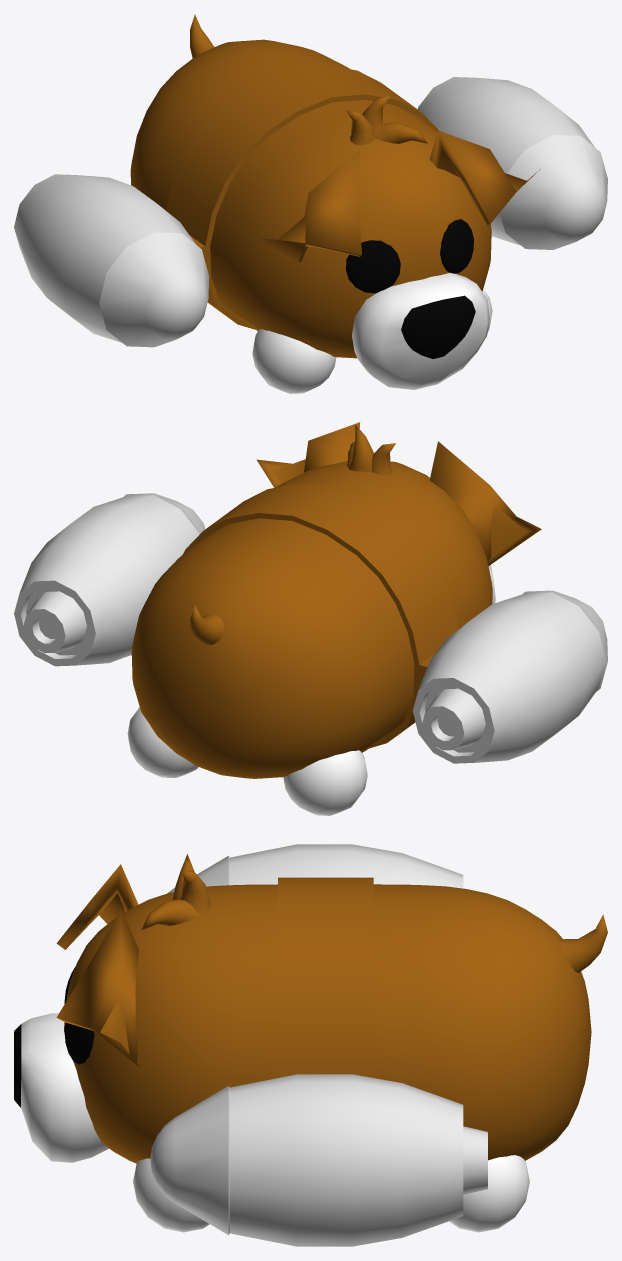
Rendered from LaserDog_01.FBX.
The picture shows the model from 3 angles, top to bottom: view 1: azimuth 30°, elevation 25°; view 2: azimuth 150°, elevation 25°; view 3: azimuth 270°, elevation 25°; orthographic projection. The views are drawn at different scales.
Visible parts, largest first — view 1: Body, Rockets Bodies, Rockets_Head&Tail, Rockets Belt, Muzzle, Ear_R, Ear_L, Paw_FrontR, Nose, Eye_R, Eye_L, Cylinder004 (+3 smaller); view 2: Body, Rockets Bodies, Rockets Belt, Rockets_Head&Tail, Ear_R, Paw_BackR, Ear_L, Paw_BackL, Cylinder006, Cylinder005, Cylinder003; view 3: Body, Rockets Bodies, Rockets Belt, Rockets_Head&Tail, Muzzle, Ear_L, Paw_BackL, Paw_FrontL, Ear_R, Cylinder006, Cylinder004, Eye_L (+2 smaller).
Boxes of the visible parts, x1,y1,x2,y2 form: Body: [130, 39, 491, 358]; Rockets Bodies: [14, 77, 594, 342]; Rockets_Head&Tail: [99, 135, 607, 347]; Rockets Belt: [166, 64, 438, 329]; Muzzle: [352, 273, 489, 389]; Ear_R: [257, 149, 361, 262]; Ear_L: [429, 130, 540, 225]; Paw_FrontR: [252, 329, 336, 393]; Nose: [401, 295, 475, 358]; Eye_R: [346, 240, 400, 293]; Eye_L: [440, 219, 473, 273]; Cylinder004: [374, 122, 427, 143]; Body: [131, 461, 492, 778]; Rockets Bodies: [20, 495, 605, 762]; Rockets Belt: [183, 483, 458, 748]; Rockets_Head&Tail: [14, 493, 607, 763]; Ear_R: [429, 441, 541, 565]; Paw_BackR: [283, 750, 367, 815]; Ear_L: [257, 422, 360, 487]; Paw_BackL: [127, 707, 198, 777]; Cylinder006: [190, 605, 223, 645]; Cylinder005: [348, 425, 373, 472]; Cylinder003: [371, 443, 395, 475]; Body: [64, 884, 591, 1163]; Rockets Bodies: [229, 844, 463, 1246]; Rockets Belt: [278, 877, 373, 1077]; Rockets_Head&Tail: [150, 856, 487, 1234]; Muzzle: [21, 1013, 108, 1162]; Ear_L: [56, 909, 139, 1066]; Paw_BackL: [449, 1155, 529, 1232]; Paw_FrontL: [133, 1158, 209, 1232]; Ear_R: [56, 864, 138, 949]; Cylinder006: [560, 914, 607, 972]; Cylinder004: [141, 899, 199, 930]; Eye_L: [64, 1022, 94, 1064].
Bounding box in the file's own units: 550 × 273 × 456.
